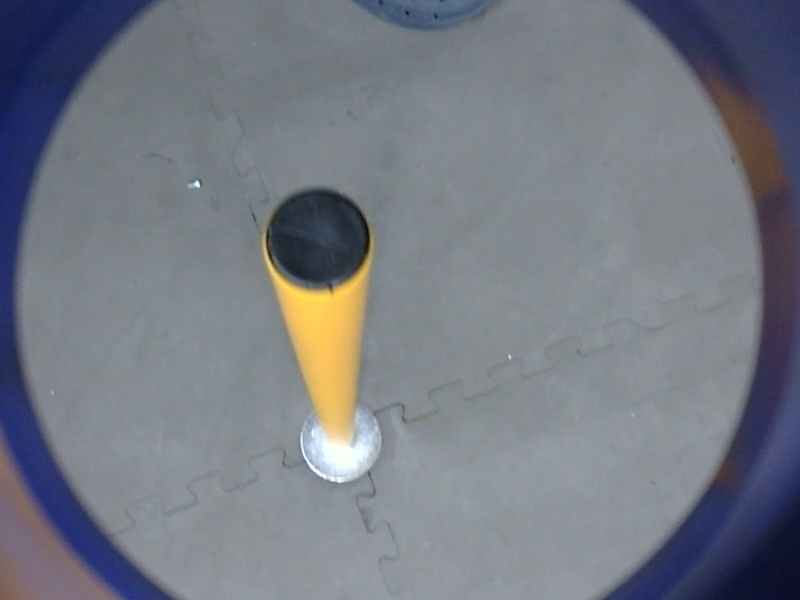tip: (257, 180, 378, 302)
